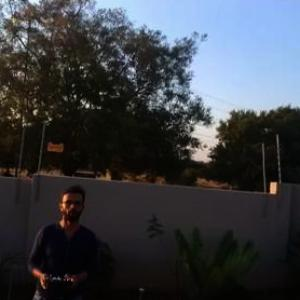follow: (20, 182, 100, 299)
